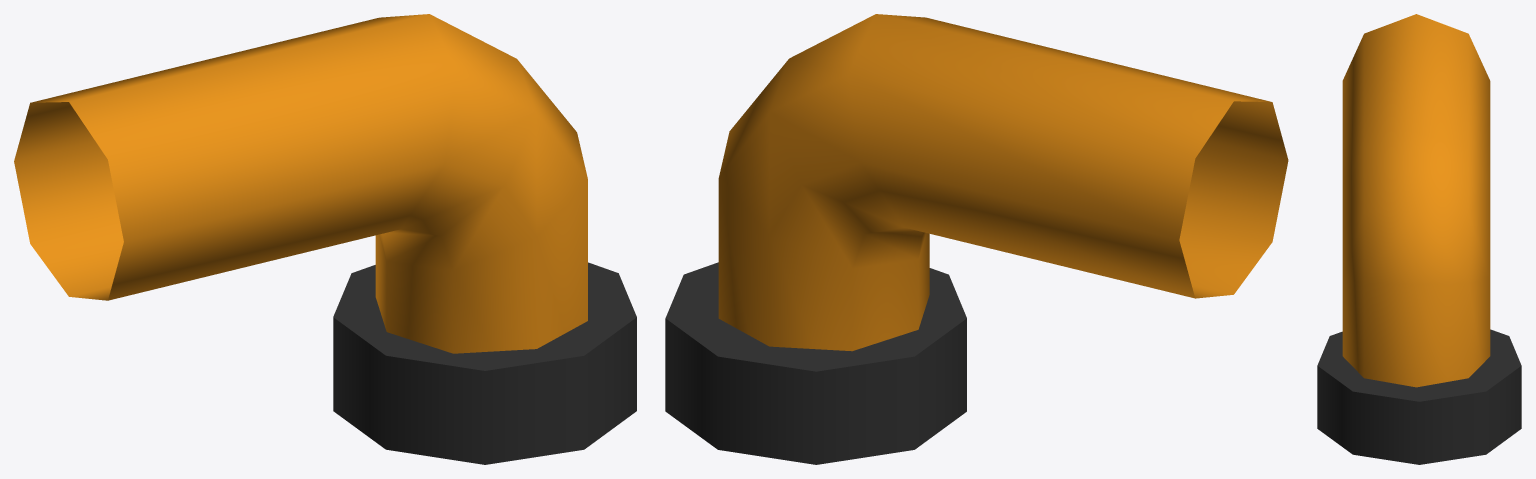
File: Pipe_1_C_2_1.fbx
3 renders of one model, left to right at view 1: azimuth 30°, elevation 25°; view 2: azimuth 150°, elevation 25°; view 3: azimuth 270°, elevation 25°, orthographic. The views are drawn at different scales.
Parts seen in each view (by area): view 1: Pipe_1_C_2_1; view 2: Pipe_1_C_2_1; view 3: Pipe_1_C_2_1.
Boxes of the visible parts, left/top/right/bottom form: Pipe_1_C_2_1: left=14, top=14, right=636, bottom=464; Pipe_1_C_2_1: left=665, top=14, right=1288, bottom=464; Pipe_1_C_2_1: left=1317, top=14, right=1521, bottom=464.
Bounding box in the file's own units: 63.18 × 43.92 × 30.12.
